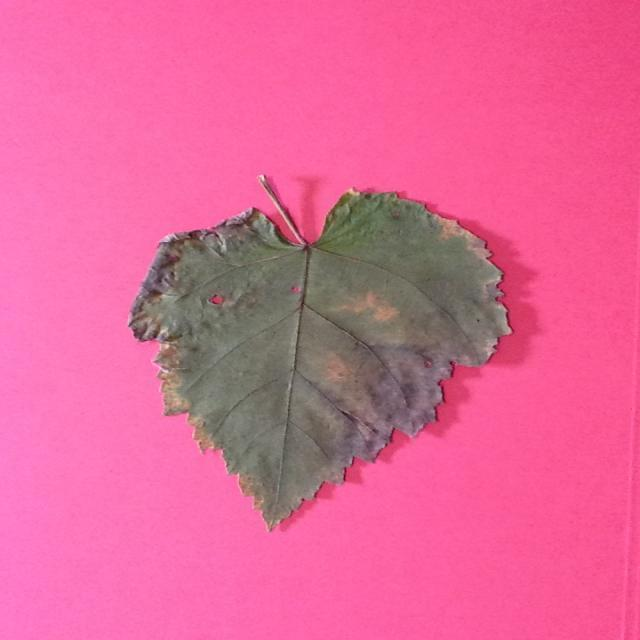foliage: (130, 174, 510, 534)
